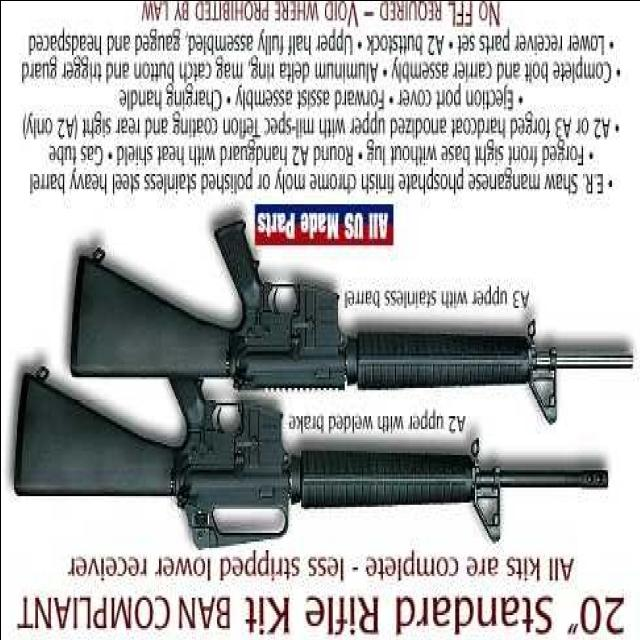heavyweapon: (62, 194, 631, 423), (8, 384, 618, 570)
